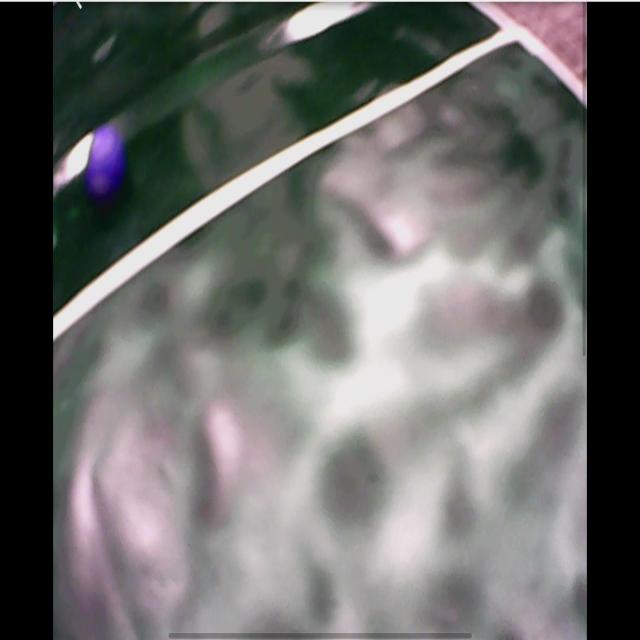ball: (89, 127, 122, 195)
